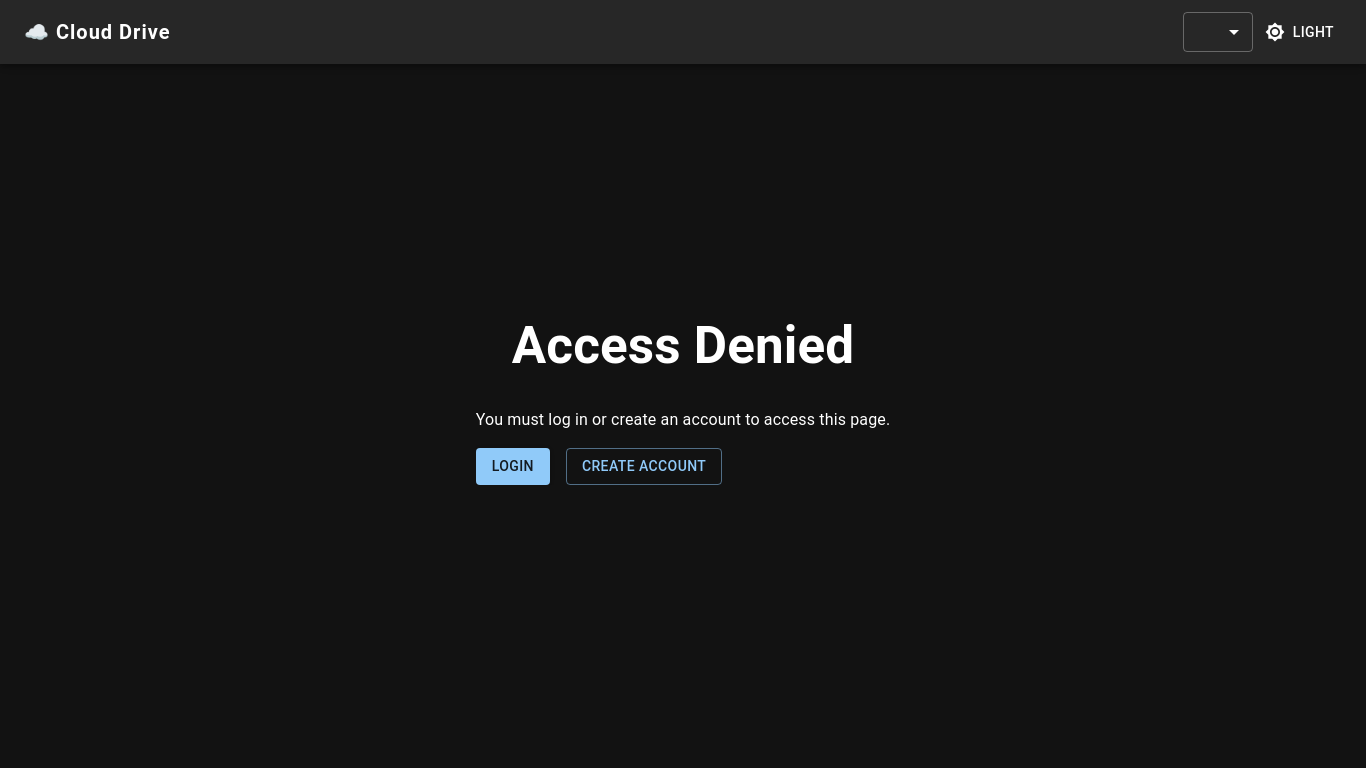
Scenario: Theme Toggle › switches background color when toggling theme
The image size is (1366, 768).
// Click to switch to light mode
Click the button "Light" at (1301, 32), box [1261, 14, 1342, 50]
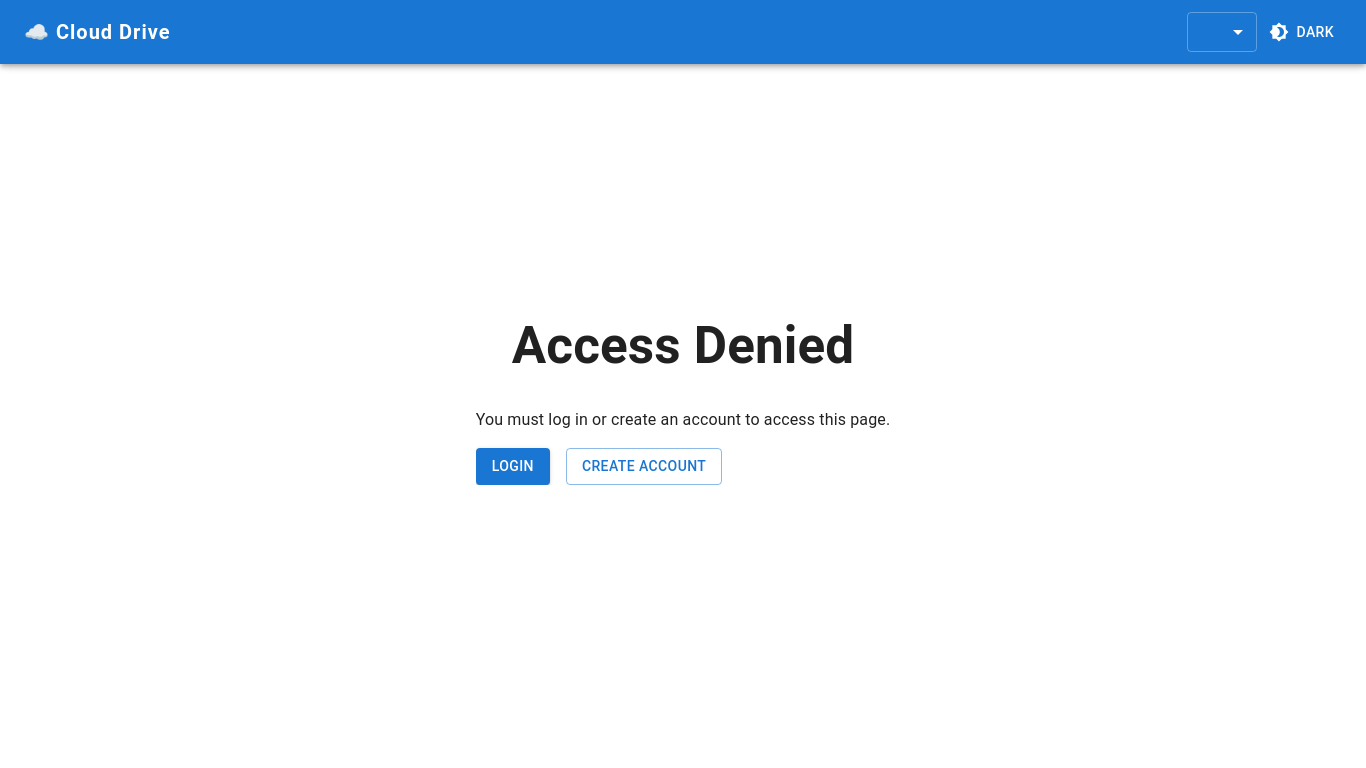
Now the button "Dark" is shown
// Click back to dark mode
Click the button "Dark" at (1303, 32), box [1264, 14, 1342, 50]
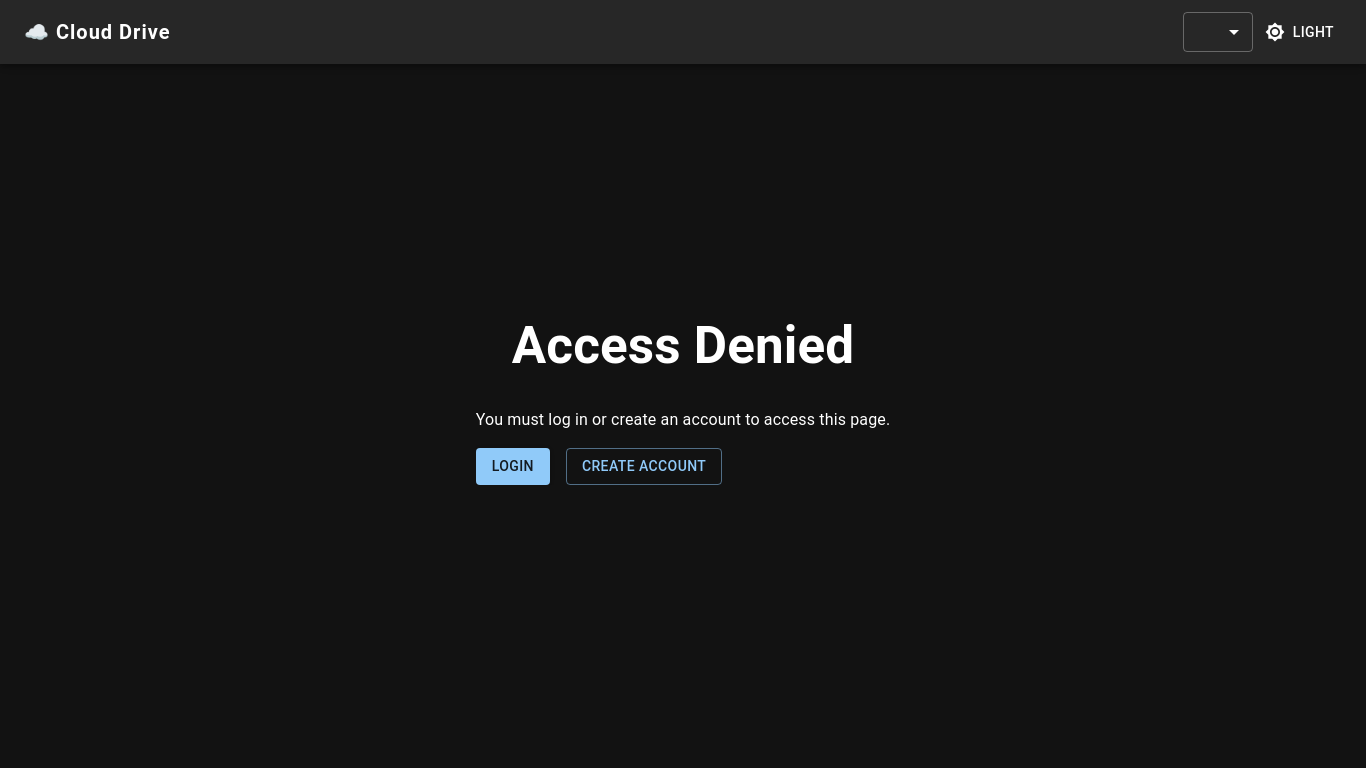
Now the button "Light" is shown, box [1261, 14, 1342, 50]
